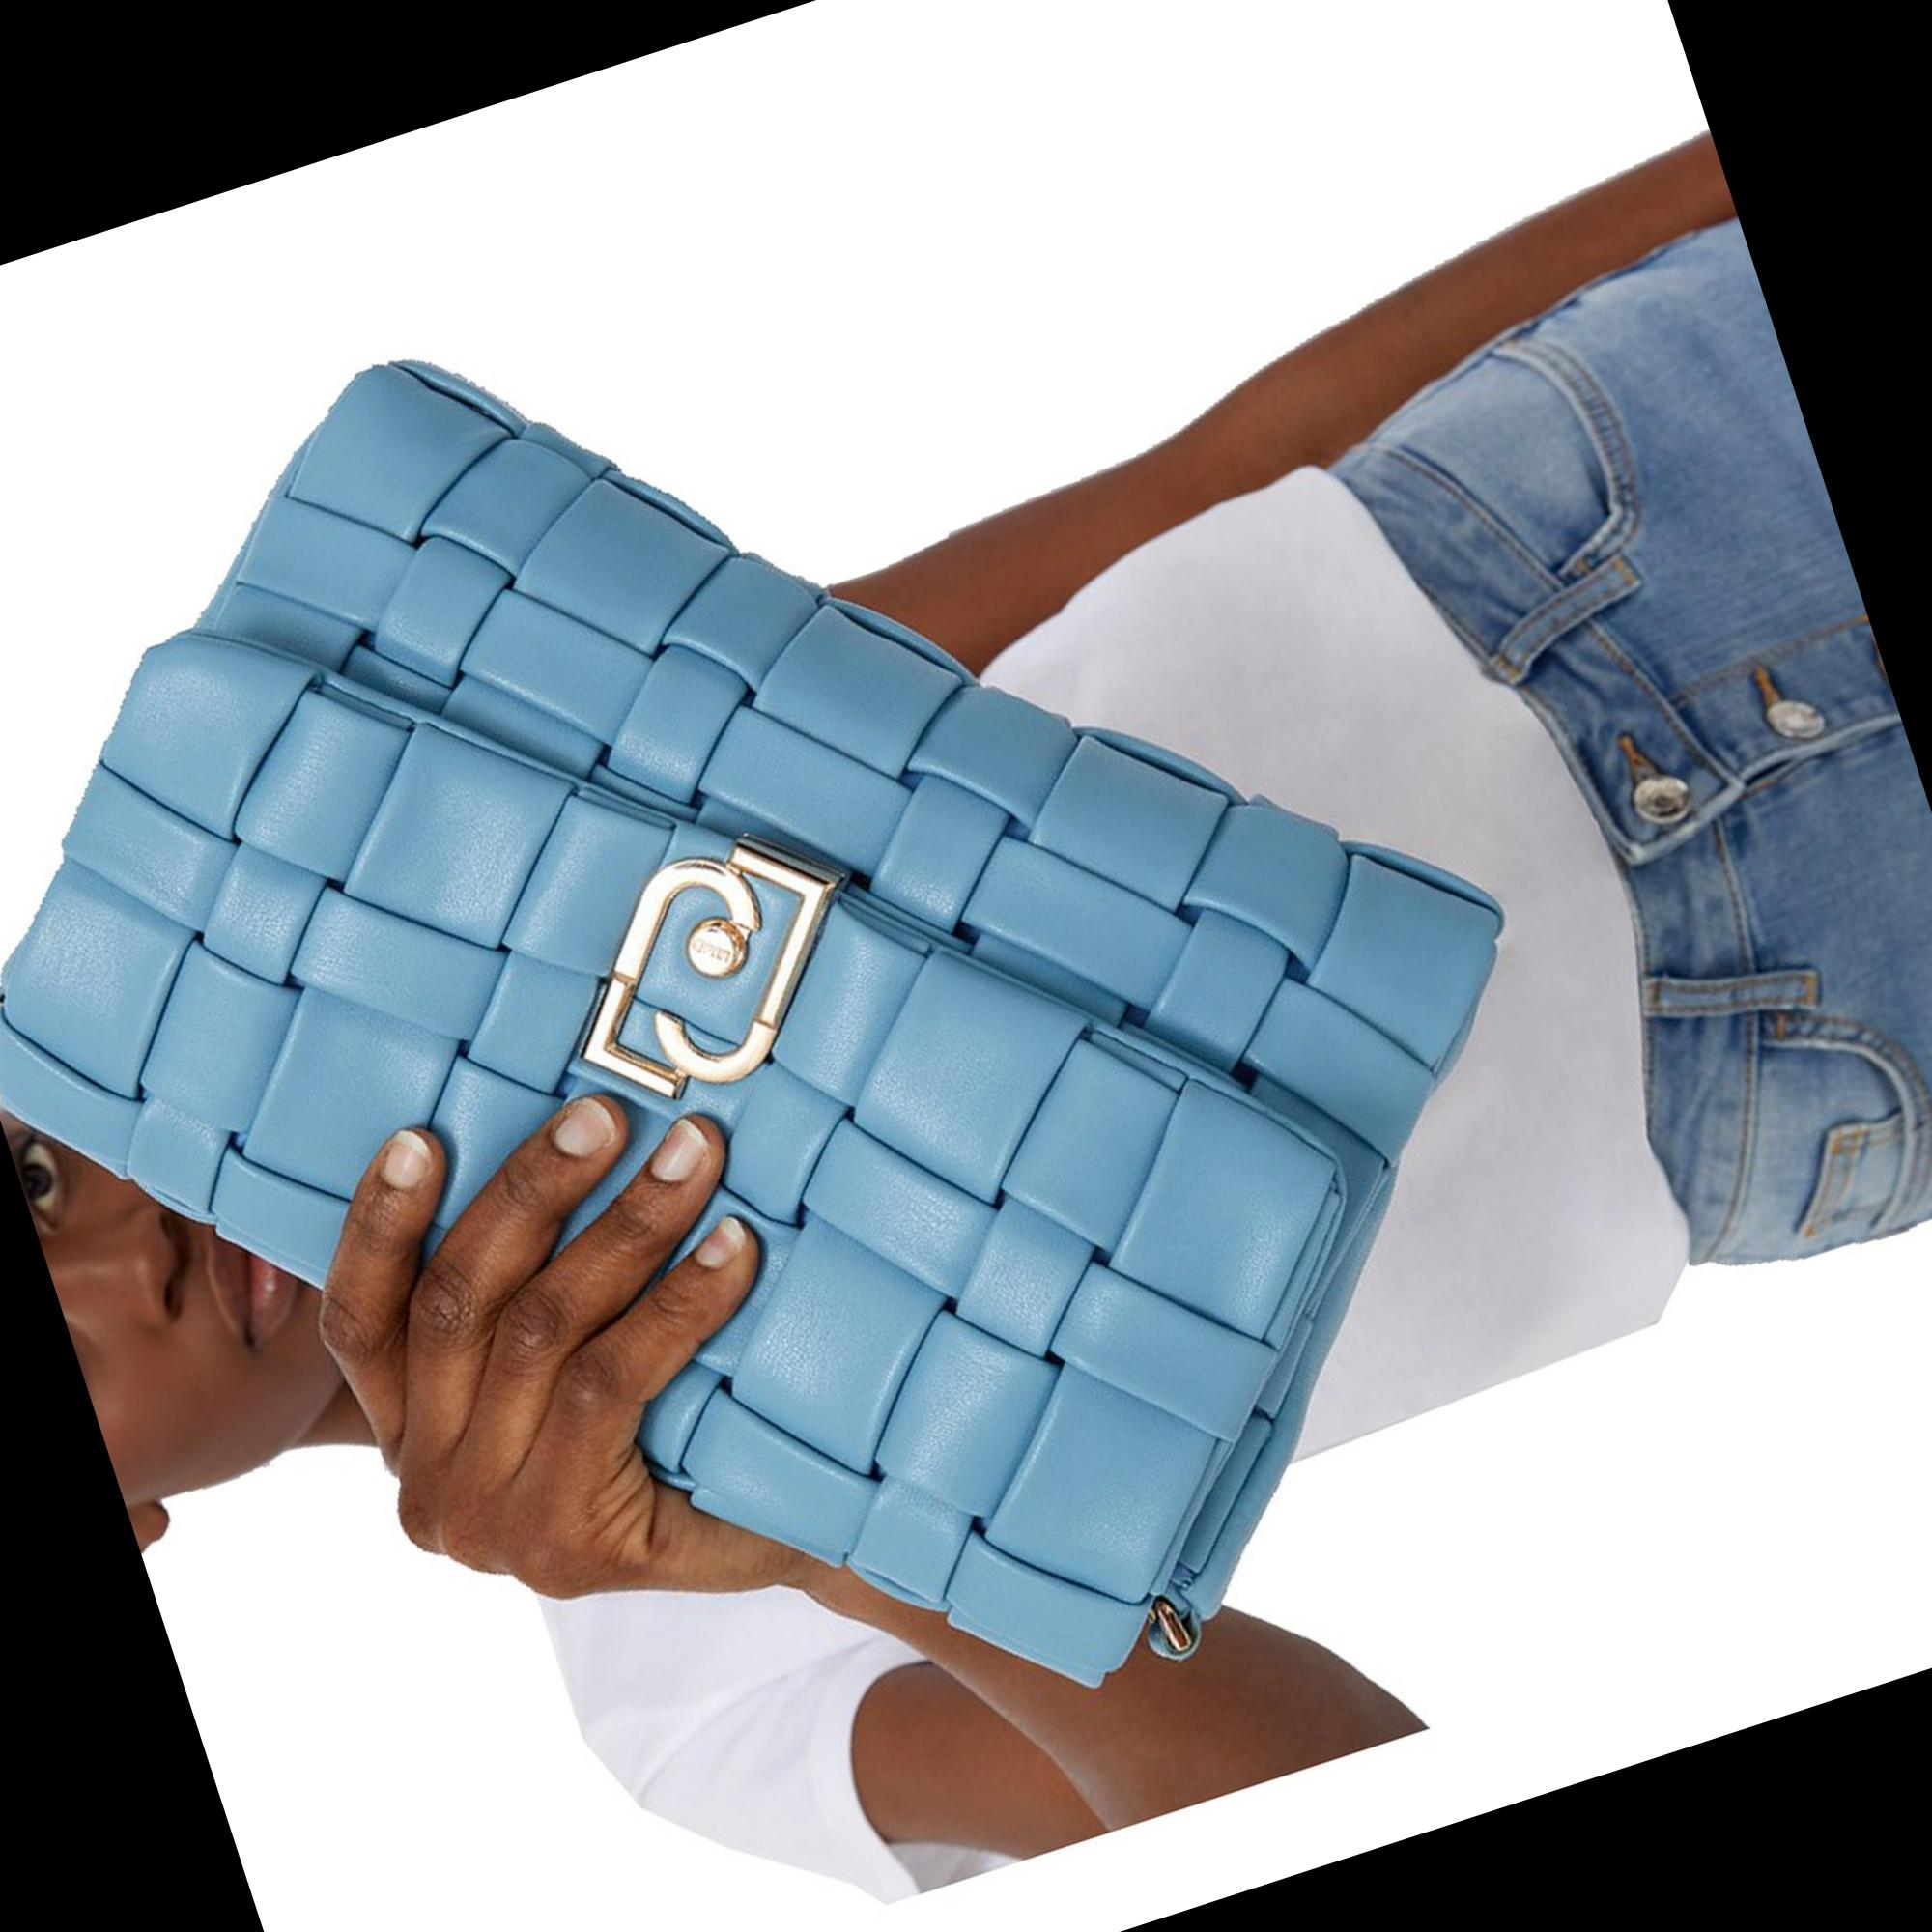LIU-JO: (529, 807, 895, 1123)
